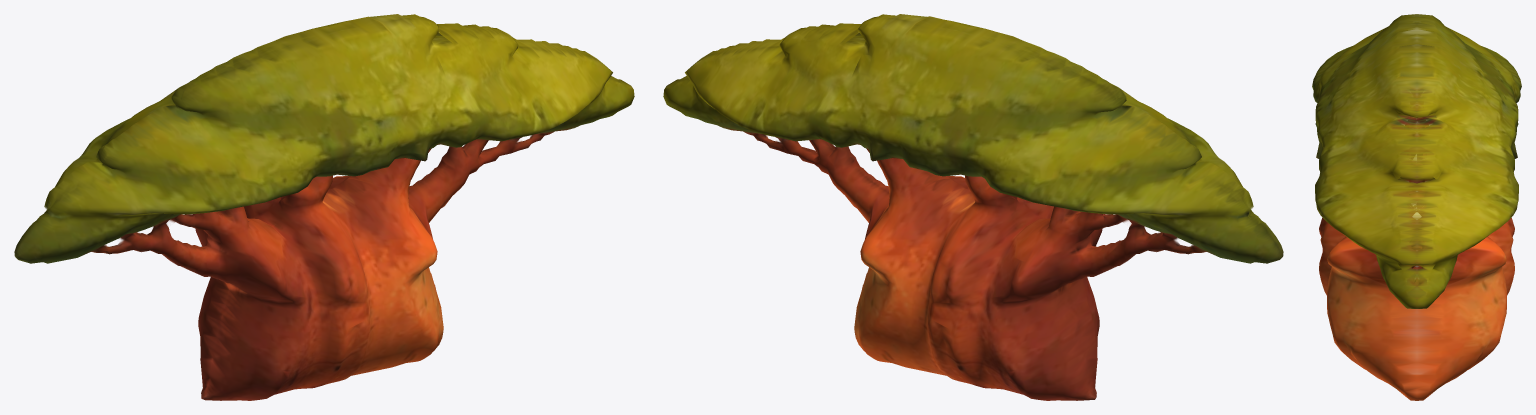
The model's file is 03_baobab_trees_r01_c01.glb.
The picture shows the model from 3 angles, left to right: view 1: azimuth 30°, elevation 25°; view 2: azimuth 150°, elevation 25°; view 3: azimuth 270°, elevation 25°; orthographic projection. The views are drawn at different scales.
Parts seen in each view (by area): view 1: 03_baobab_trees_r01_c01; view 2: 03_baobab_trees_r01_c01; view 3: 03_baobab_trees_r01_c01.
Part boxes in pixels (left/top/right/bottom): 03_baobab_trees_r01_c01: left=14, top=14, right=634, bottom=400; 03_baobab_trees_r01_c01: left=663, top=14, right=1283, bottom=400; 03_baobab_trees_r01_c01: left=1312, top=14, right=1521, bottom=400.
Bounding box in the file's own units: 4.47 × 2.33 × 1.47.
1 material, 1 textured.
